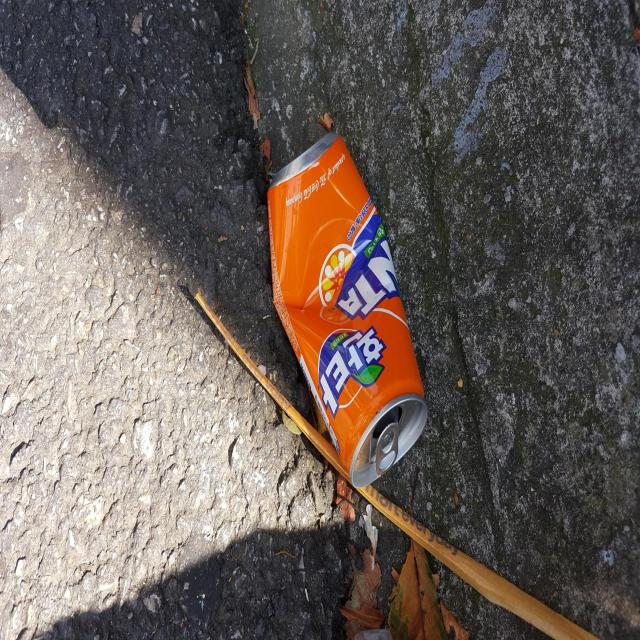can: (267, 132, 428, 488)
